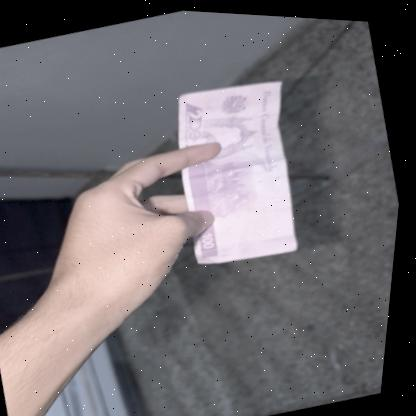one_hundred-back-vef: (156, 65, 327, 272)
